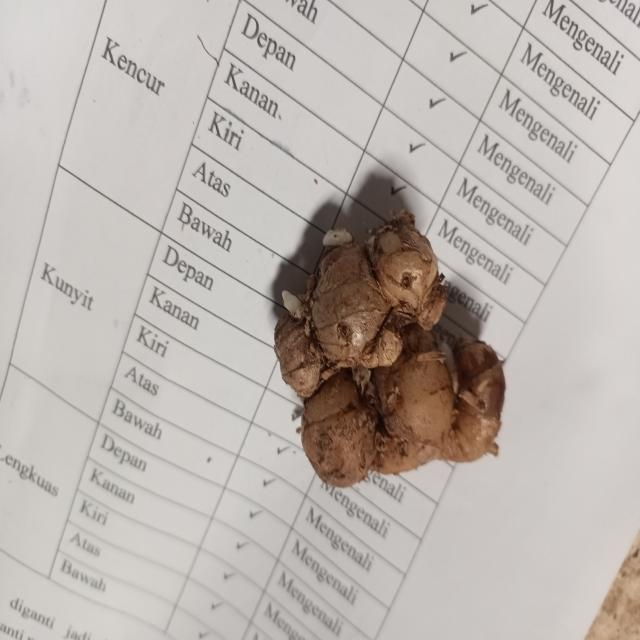ginger: (282, 222, 502, 467)
